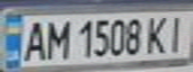0: (109, 16, 127, 56)
1: (72, 16, 93, 57)
5: (90, 16, 112, 57)
8: (124, 15, 148, 56)
A: (18, 18, 51, 62)
I: (163, 12, 190, 54)
K: (142, 12, 172, 55)
M: (42, 17, 72, 61)
